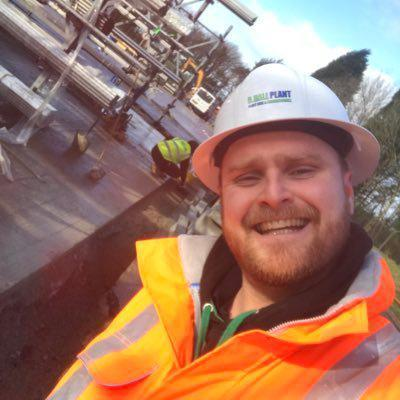helmet: (192, 65, 381, 193)
